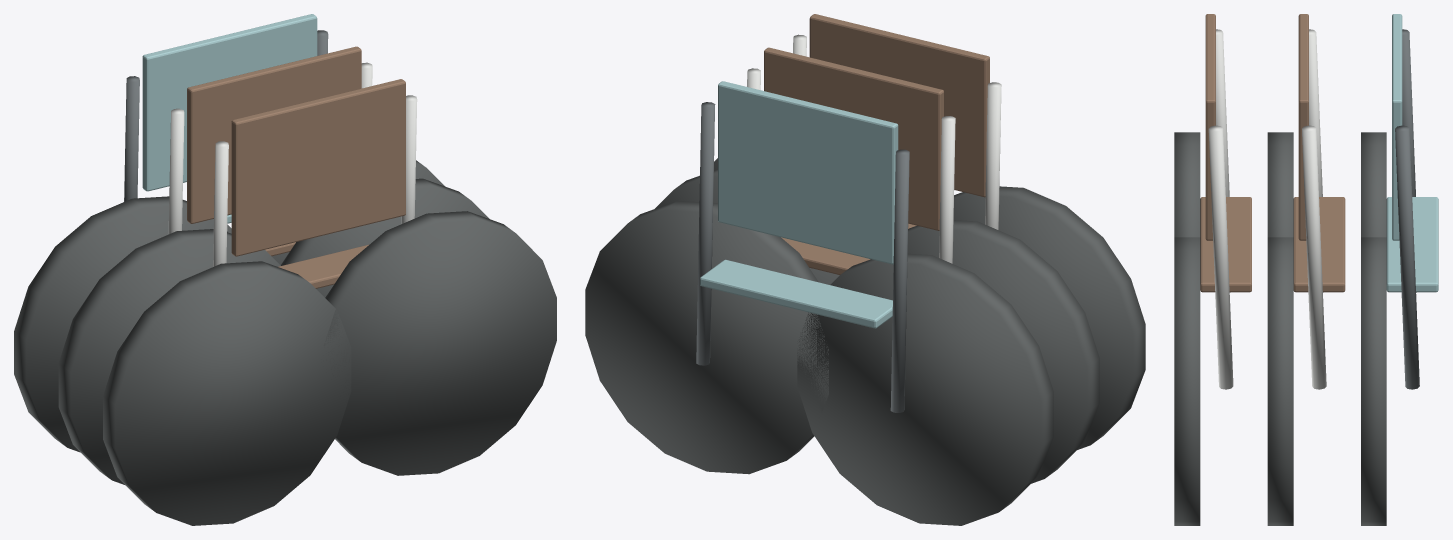
Rendered from Gear12.fbx.
3 views of the same model, side by side, from view 1: azimuth 30°, elevation 25°; view 2: azimuth 150°, elevation 25°; view 3: azimuth 270°, elevation 25° (orthographic). The views are drawn at different scales.
Parts seen in each view (by area): view 1: Gear12_V10_Tyre, Gear12_V10_Leather, Gear12_V1_Tyre, Gear12_V1_Blue, Gear12_V10_Chrome, Gear12_V1_Charcoal; view 2: Gear12_V1_Tyre, Gear12_V1_Blue, Gear12_V10_Tyre, Gear12_V10_Leather, Gear12_V1_Charcoal, Gear12_V10_Chrome; view 3: Gear12_V10_Tyre, Gear12_V10_Leather, Gear12_V10_Chrome, Gear12_V1_Tyre, Gear12_V1_Blue, Gear12_V1_Charcoal.
Boxes of the visible parts, left/top/right/bottom form: Gear12_V10_Tyre: left=58, top=178, right=556, bottom=525; Gear12_V10_Leather: left=187, top=46, right=405, bottom=288; Gear12_V1_Tyre: left=14, top=160, right=444, bottom=452; Gear12_V1_Blue: left=142, top=14, right=317, bottom=223; Gear12_V10_Chrome: left=168, top=62, right=417, bottom=266; Gear12_V1_Charcoal: left=124, top=30, right=328, bottom=201; Gear12_V1_Tyre: left=585, top=200, right=1053, bottom=525; Gear12_V1_Blue: left=700, top=81, right=898, bottom=328; Gear12_V10_Tyre: left=655, top=158, right=1145, bottom=483; Gear12_V10_Leather: left=764, top=14, right=989, bottom=274; Gear12_V1_Charcoal: left=696, top=102, right=909, bottom=412; Gear12_V10_Chrome: left=747, top=34, right=1001, bottom=263; Gear12_V10_Tyre: left=1174, top=132, right=1293, bottom=525; Gear12_V10_Leather: left=1200, top=14, right=1345, bottom=292; Gear12_V10_Chrome: left=1208, top=29, right=1326, bottom=389; Gear12_V1_Tyre: left=1361, top=132, right=1386, bottom=525; Gear12_V1_Blue: left=1386, top=14, right=1438, bottom=292; Gear12_V1_Charcoal: left=1395, top=29, right=1419, bottom=389.
Bounding box in the file's own units: 103 × 86 × 51.
